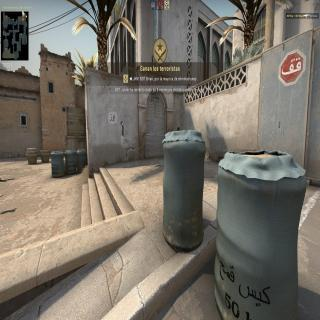T-Head: (177, 126, 180, 131)
